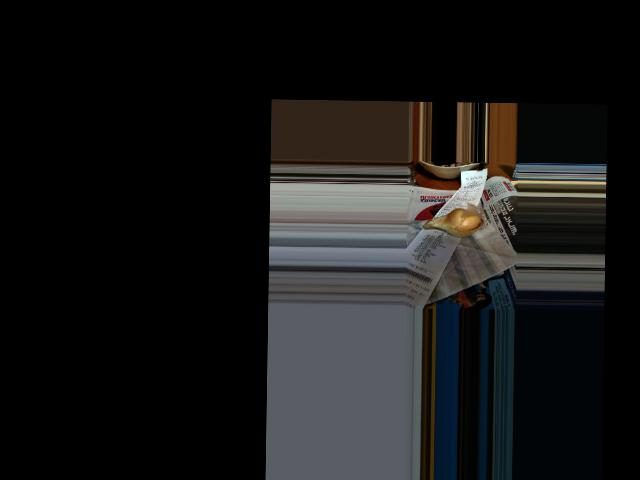onion: (425, 207, 482, 239)
